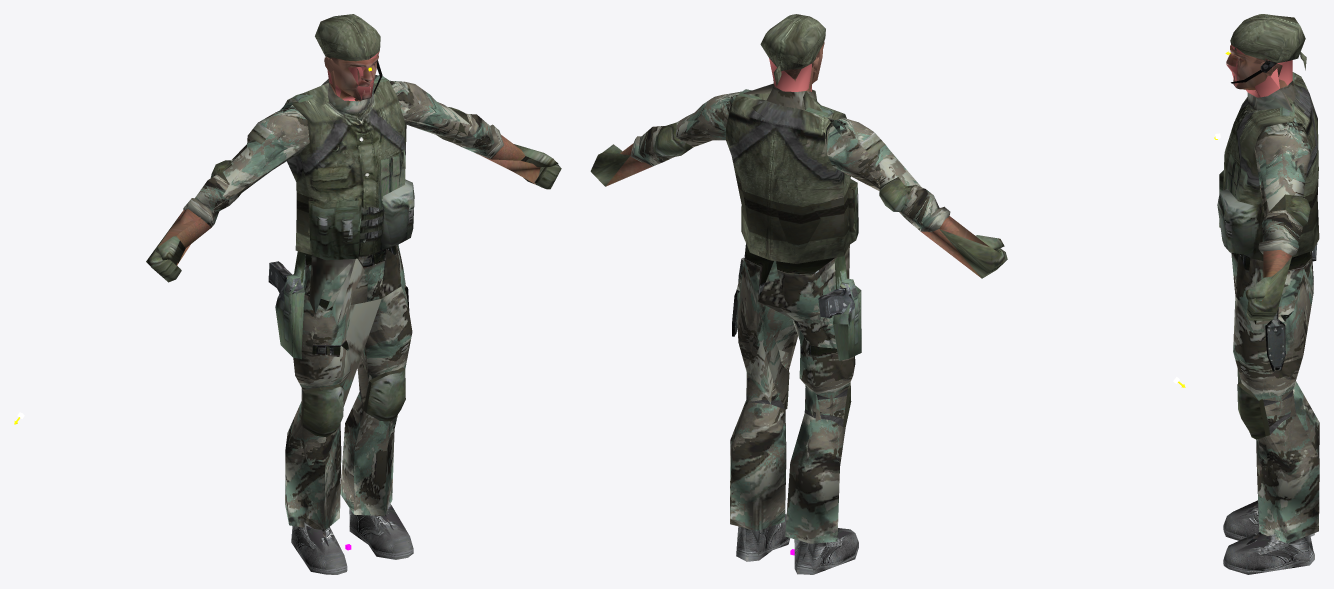
File: DeltaMrc.glb
The picture shows the model from 3 angles, left to right: view 1: azimuth 30°, elevation 25°; view 2: azimuth 150°, elevation 25°; view 3: azimuth 270°, elevation 25°; orthographic projection.
Visible parts, largest first — view 1: 01 Mesh0, 01 Mesh0.002, 01 Mesh0.001, 01 Mesh0.003, 01 Mesh1; view 2: 01 Mesh0, 01 Mesh0.002, 01 Mesh0.001, 01 Mesh0.003; view 3: 01 Mesh0, 01 Mesh0.002, 01 Mesh0.001, 01 Mesh0.003, 01 Mesh1, 01 Mesh1.002, 01 Mesh1.001.
Boxes of the visible parts, x1,y1,x2,y2 form: 01 Mesh0: [146, 14, 561, 574]; 01 Mesh0.002: [148, 36, 553, 556]; 01 Mesh0.001: [158, 16, 552, 429]; 01 Mesh0.003: [158, 75, 540, 546]; 01 Mesh1: [324, 55, 378, 101]; 01 Mesh0: [591, 14, 1007, 574]; 01 Mesh0.002: [590, 45, 999, 574]; 01 Mesh0.001: [603, 15, 1004, 426]; 01 Mesh0.003: [677, 80, 989, 567]; 01 Mesh0: [1217, 14, 1319, 574]; 01 Mesh0.002: [1229, 39, 1315, 564]; 01 Mesh0.001: [1223, 14, 1318, 436]; 01 Mesh0.003: [1246, 89, 1313, 553]; 01 Mesh1: [1226, 45, 1282, 89]; 01 Mesh1.002: [1226, 45, 1292, 97]; 01 Mesh1.001: [1231, 53, 1287, 95].
Bounding box in the file's own units: 2.23 × 2.01 × 0.3593.
6 materials, 2 textured.
